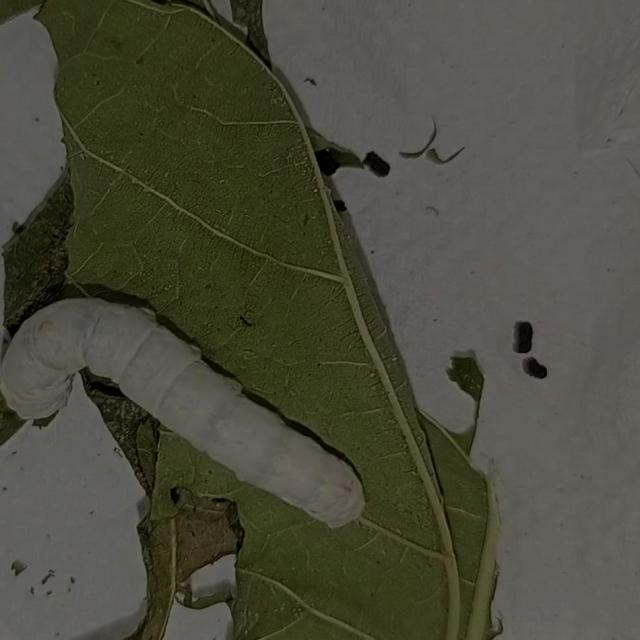Healthy: (1, 290, 368, 536)
